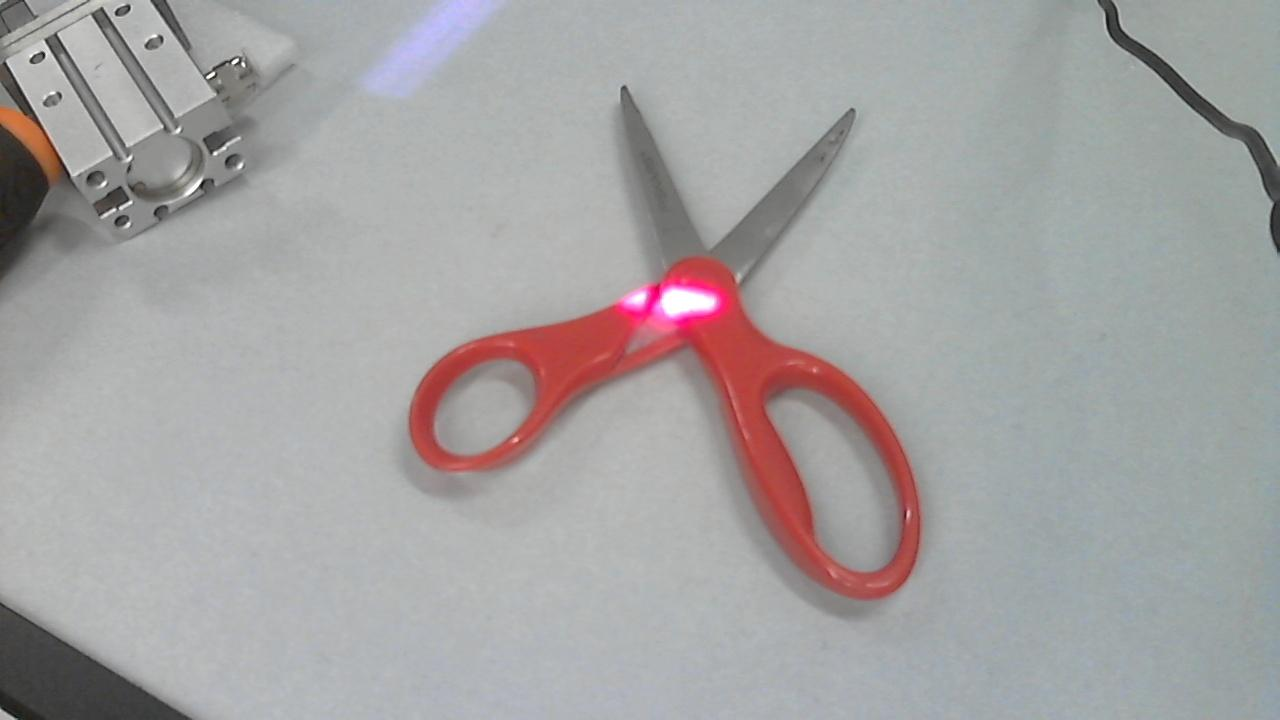Object scissors - Material plastic - Pdfname tYexGlkiIXWc: (597, 260, 738, 333)
